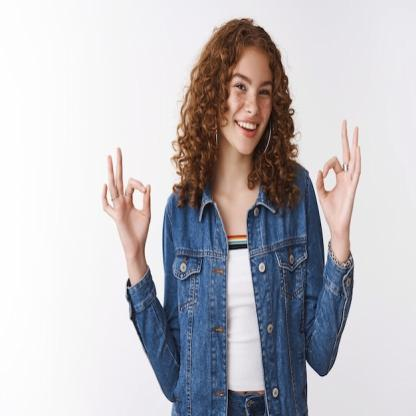ok: (96, 144, 154, 256), (311, 119, 364, 232)
